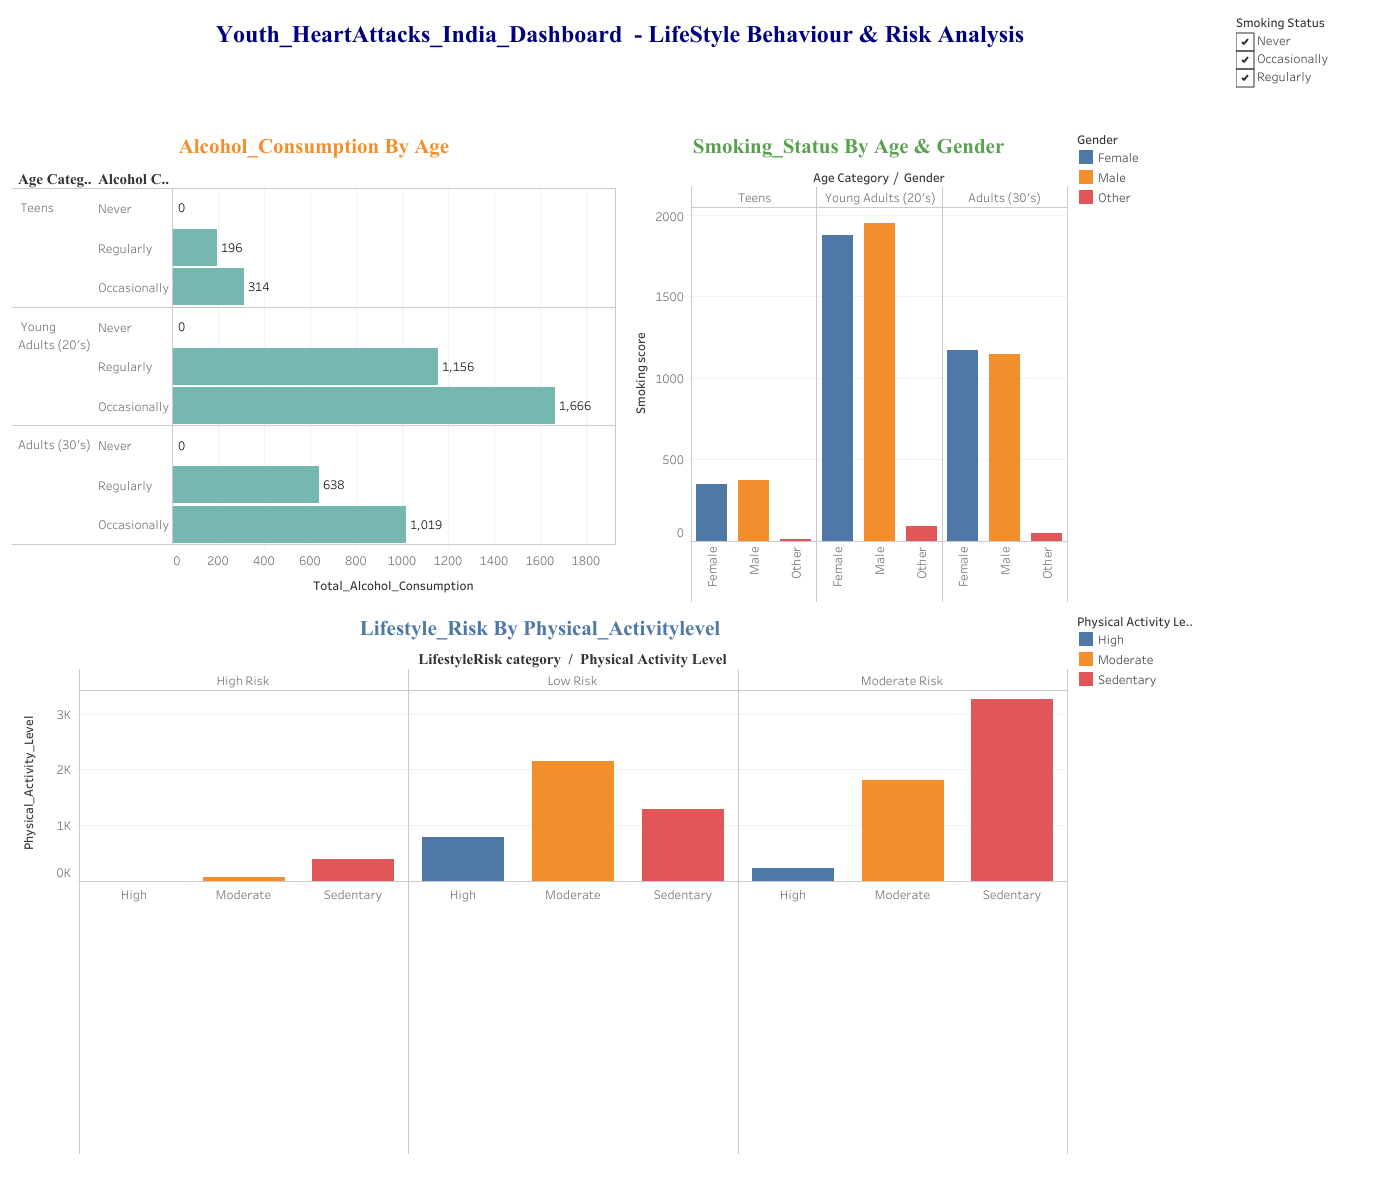

The page's visual inventory and layout, read from the dashboard file:
{"tool":"tableau","page":{"name":"Dashboard 1","canvas":[1400,1200],"ordinal":0},"visuals":[{"type":"title","box":[8,8,1224,51]},{"type":"filter","title":"Sheet 3","param":"[federated.0xmsiim08rcw0m1774rh319un32k].[none:Smoking Status:nk]","box":[1232,8,160,177]},{"type":"worksheet","title":"Sheet 1","mark":"Automatic","rows":["Age_Category","Alcohol Consumption"],"cols":["Calculation_607704538941825024"],"box":[8,124.3,612,481.7]},{"type":"worksheet","title":"Sheet 3","mark":"Automatic","rows":["Smoking_score"],"cols":["Age_Category","Gender"],"box":[620,124.3,452,481.7]},{"type":"legend","title":"Sheet 3","param":"[federated.0xmsiim08rcw0m1774rh319un32k].[none:Gender:nk]","box":[1072,124.3,160,481.7]},{"type":"worksheet","title":"Sheet 2","mark":"Automatic","rows":["Physical_Activity_Score"],"cols":["LifestyleRisk_category","Physical Activity Level"],"box":[8,606,1064,552]},{"type":"legend","title":"Sheet 2","param":"[federated.0xmsiim08rcw0m1774rh319un32k].[none:Physical Activity Level:nk]","box":[1072,606,128,552]}]}

Visuals, with their boxes in screenshot pixels (x1, y1, x2, y2), scaled from the page's 1400x1200 canvas onto the 1399x1199 screenshot:
title: (left=8, top=8, right=1231, bottom=59)
"Sheet 3" filter: (left=1231, top=8, right=1391, bottom=185)
"Sheet 1" worksheet: (left=8, top=124, right=620, bottom=605)
"Sheet 3" worksheet: (left=620, top=124, right=1071, bottom=605)
"Sheet 3" legend: (left=1071, top=124, right=1231, bottom=605)
"Sheet 2" worksheet: (left=8, top=605, right=1071, bottom=1157)
"Sheet 2" legend: (left=1071, top=605, right=1199, bottom=1157)
